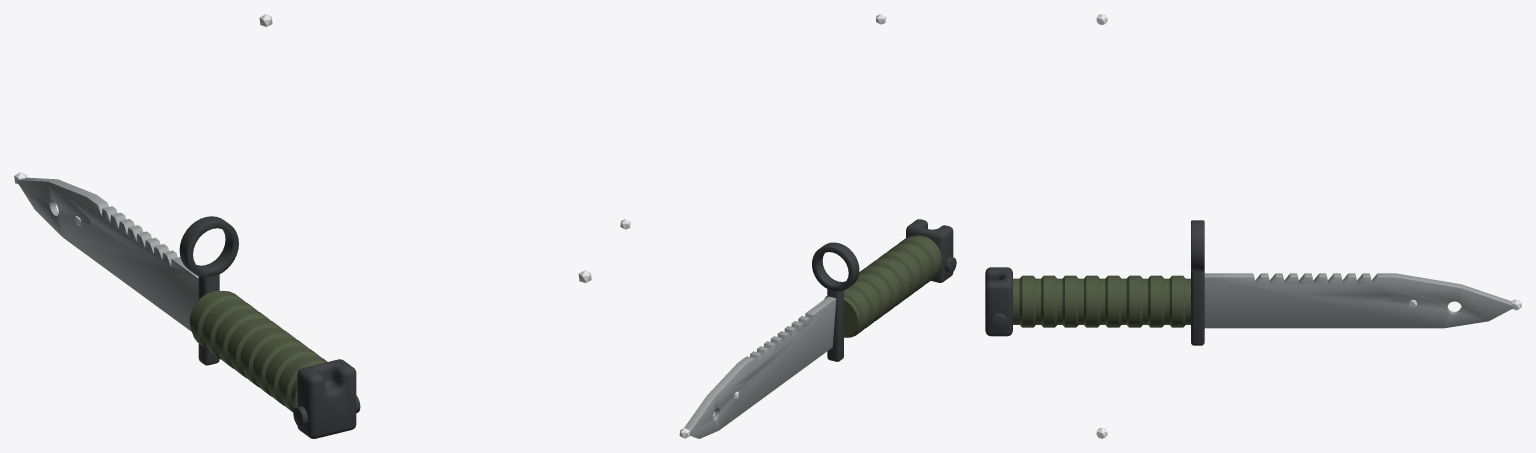
The model's file is Bayonet.glb.
The picture shows the model from 3 angles, left to right: view 1: azimuth 30°, elevation 25°; view 2: azimuth 150°, elevation 25°; view 3: azimuth 270°, elevation 25°; orthographic projection. The views are drawn at different scales.
Visible parts, largest first — view 1: Blade, Handle, Pommel, Guard; view 2: Blade, Handle, Guard, Pommel; view 3: Blade, Handle, Guard, Pommel.
Boxes of the visible parts, left/top/right/bottom form: Blade: left=17, top=177, right=198, bottom=331; Handle: left=189, top=290, right=327, bottom=412; Pommel: left=297, top=359, right=356, bottom=438; Guard: left=179, top=216, right=238, bottom=365; Blade: left=684, top=296, right=836, bottom=438; Handle: left=824, top=235, right=942, bottom=337; Guard: left=812, top=242, right=859, bottom=361; Pommel: left=906, top=219, right=953, bottom=282; Blade: left=1204, top=273, right=1514, bottom=328; Handle: left=1013, top=275, right=1190, bottom=327; Guard: left=1191, top=220, right=1204, bottom=345; Pommel: left=985, top=267, right=1012, bottom=336.
Bounding box in the file's own units: 1.11 × 1.17 × 1.72.
